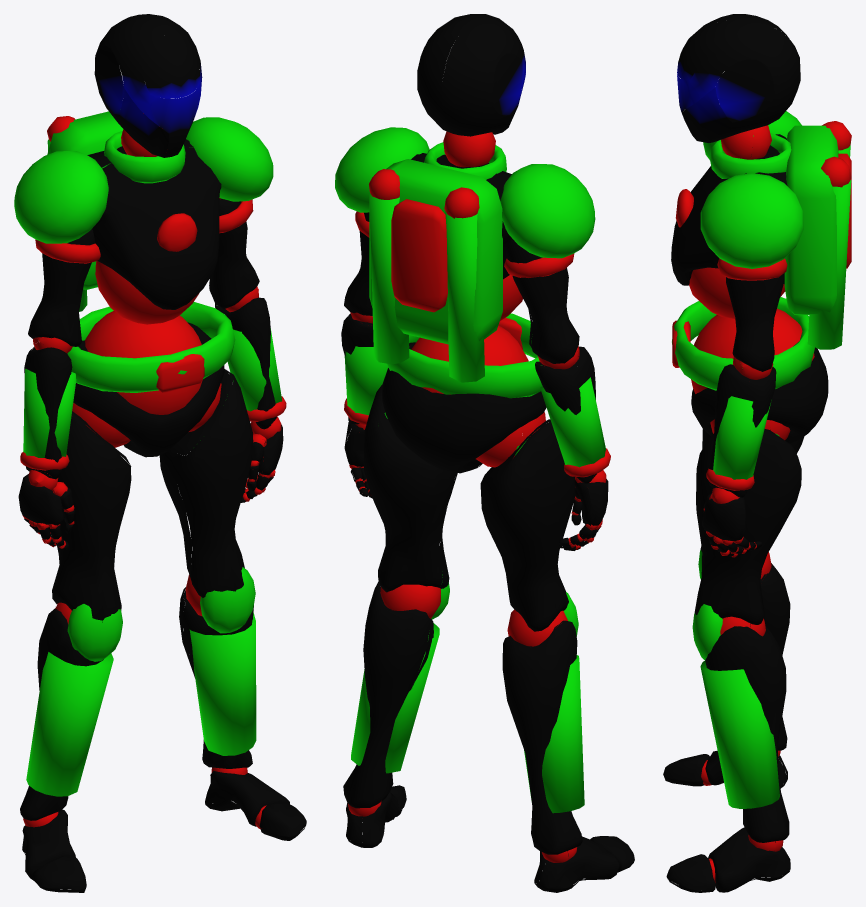
The model's file is suit.glb.
3 renders of one model, left to right at view 1: azimuth 30°, elevation 25°; view 2: azimuth 150°, elevation 25°; view 3: azimuth 270°, elevation 25°, orthographic. The views are drawn at different scales.
Parts seen in each view (by area): view 1: suit; view 2: suit; view 3: suit.
Boxes of the visible parts, x1,y1,x2,y2 form: suit: (14, 14, 306, 892); suit: (335, 14, 634, 892); suit: (663, 14, 851, 892).
Bounding box in the file's own units: 0.9459 × 2.78 × 0.5836.
